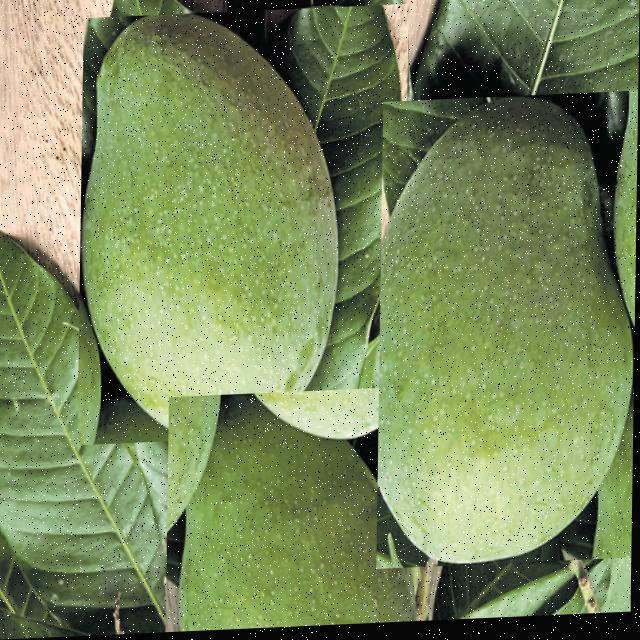raw-image: (79, 8, 409, 446), (378, 97, 639, 573), (167, 390, 433, 634)
